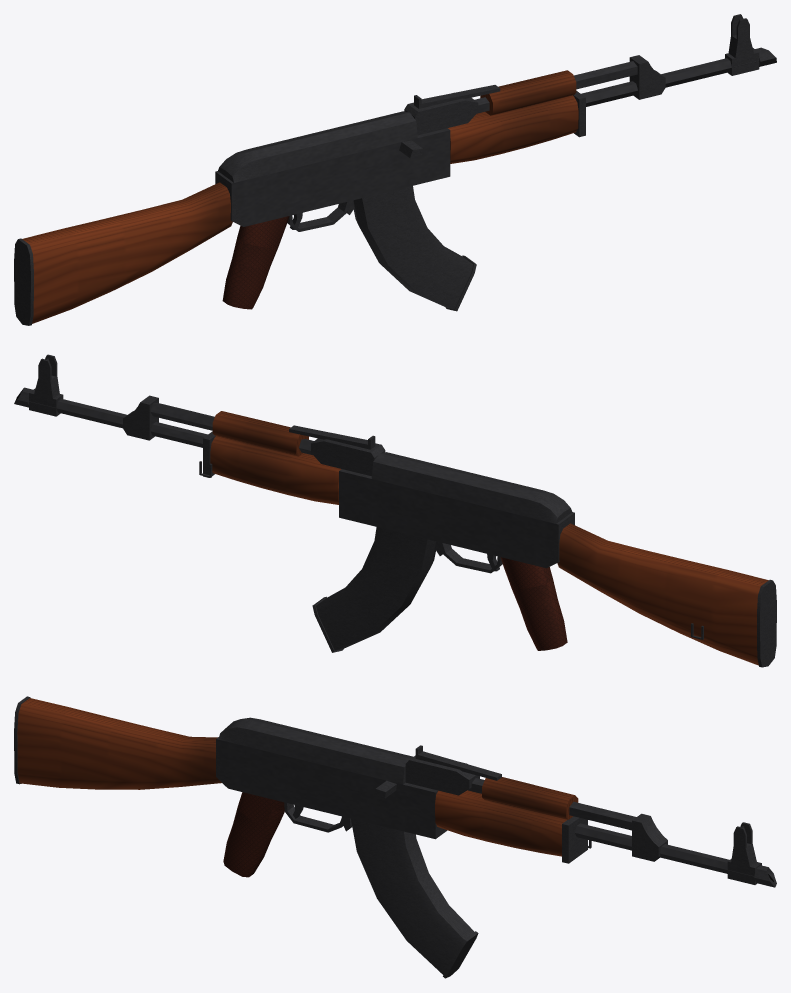
File: akm_lod1.glb
3 views of the same model, one above another, from view 1: azimuth 30°, elevation 25°; view 2: azimuth 150°, elevation 25°; view 3: azimuth 330°, elevation 25° (orthographic).
Parts seen in each view (by area): view 1: akm_body; view 2: akm_body; view 3: akm_body.
Boxes of the visible parts, bbox=[...] form: akm_body: bbox=[14, 14, 776, 325]; akm_body: bbox=[14, 354, 776, 667]; akm_body: bbox=[14, 696, 776, 978].
Bounding box in the file's own units: 0.88 × 0.2472 × 0.0613.
Materials: 1 (1 with a texture image).
